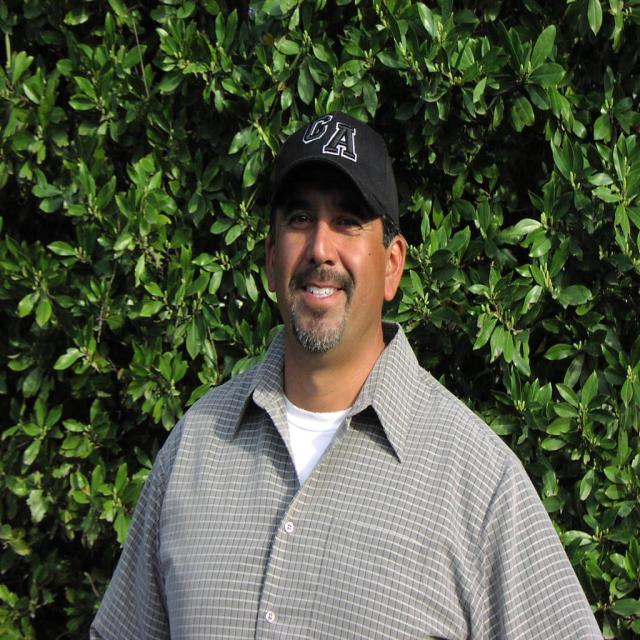Hat: (268, 109, 401, 232)
